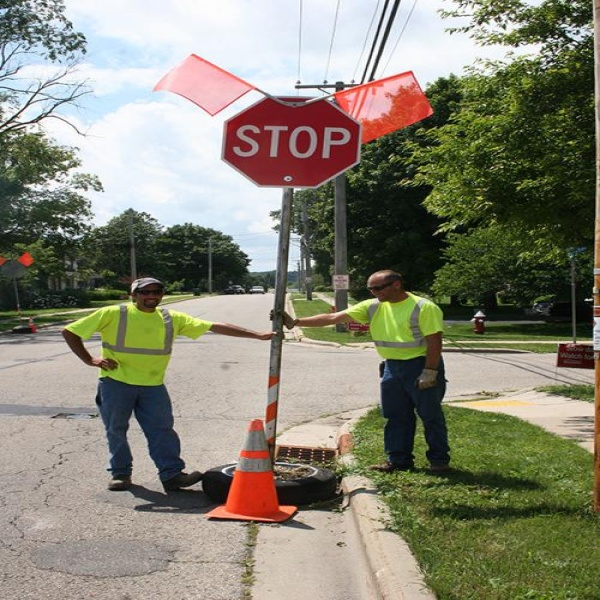stop: (218, 91, 364, 187)
